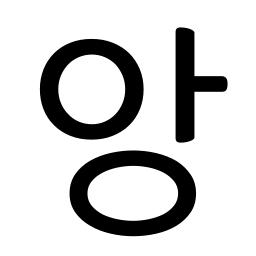Gaji: (164, 64, 213, 109)
